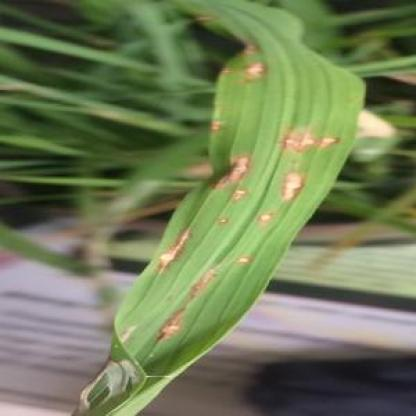Rice blast: (70, 1, 367, 416)
